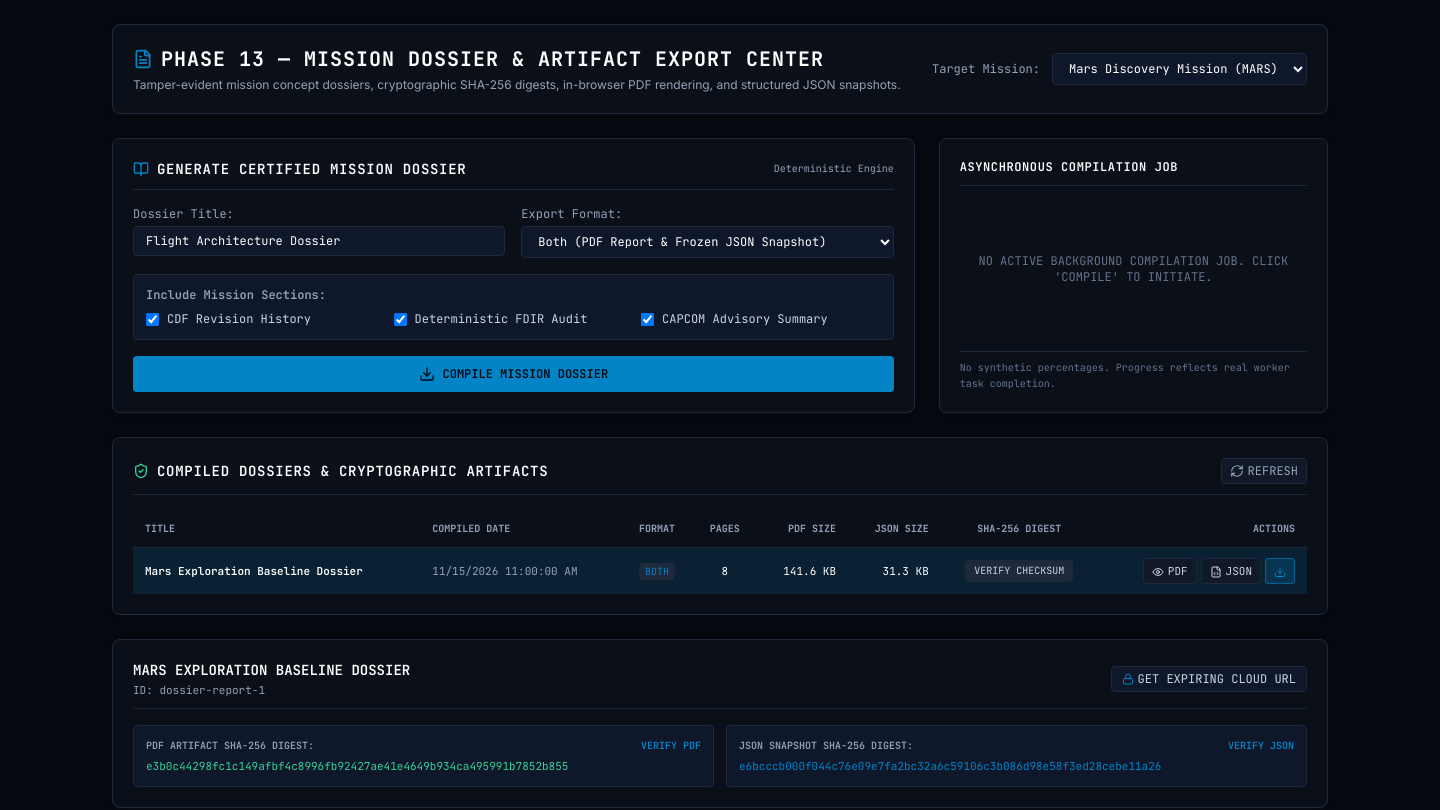
Test: Phase 13 — Mission Dossier & Artifact Export Center › inspects frozen JSON snapshot in-browser without freezing UI and verifies SHA-256
The width and height of the screenshot is (1440, 810).
Click the button with aria-label "Inspect JSON snapshot". click: {"x": 1231, "y": 571}
box: [1201,558,1261,584]
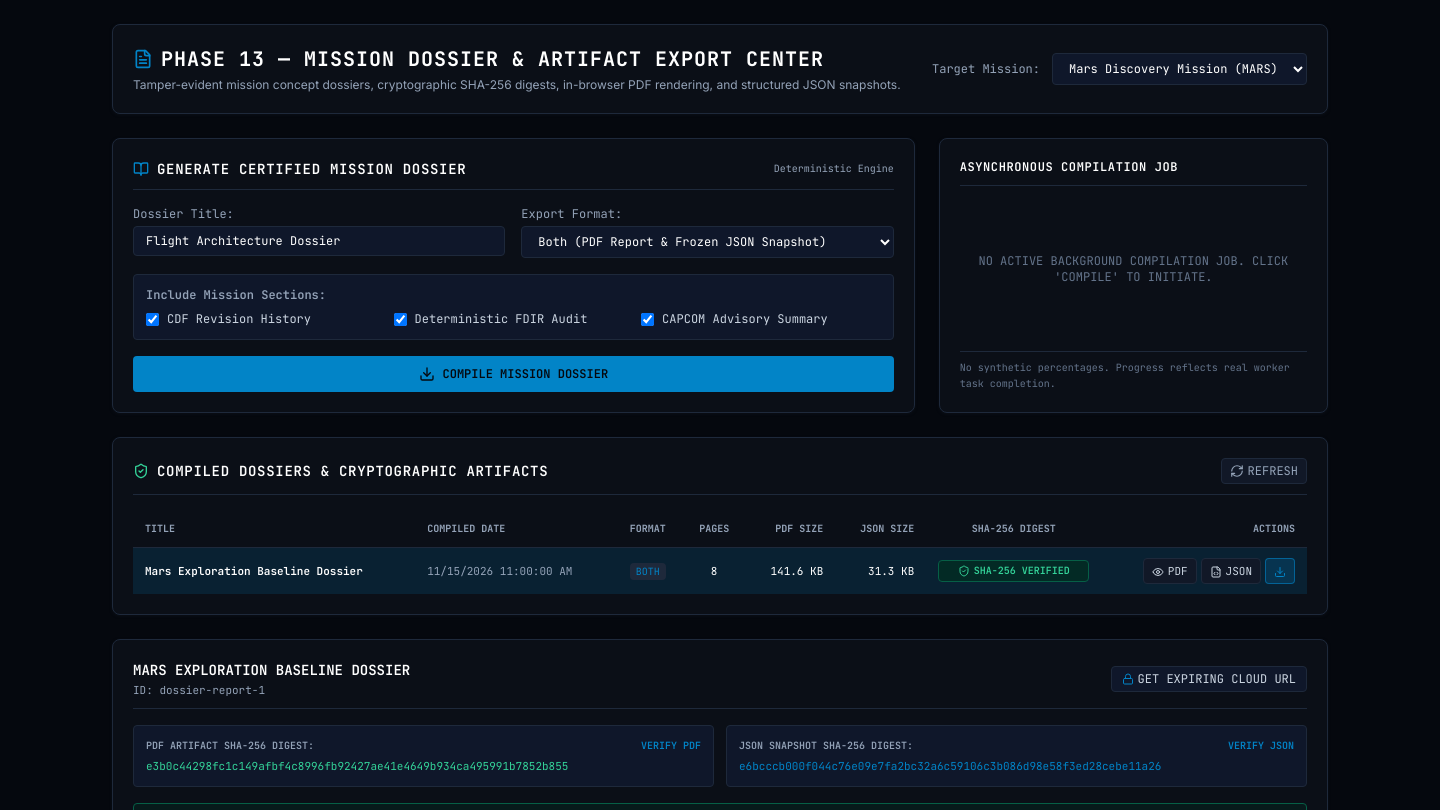
Result: the text "SHA-256 VERIFIED" is shown at [974,563,1070,579]
